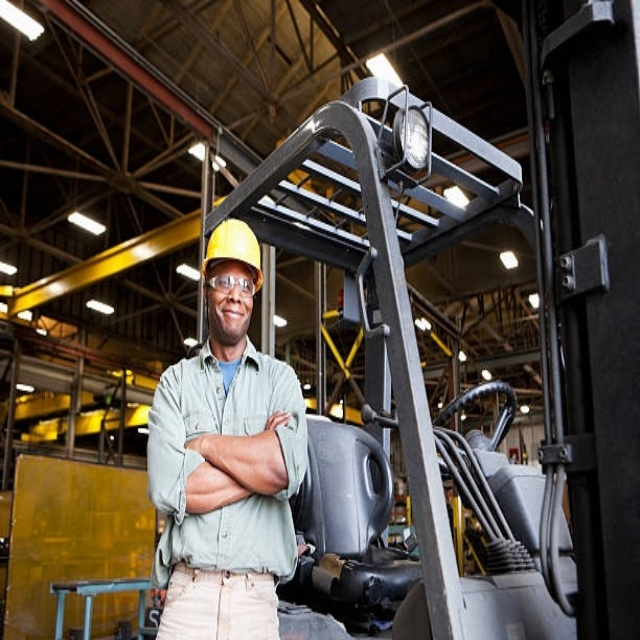Gafas: (206, 273, 256, 297)
Sin_mascara: (219, 301, 247, 331)
